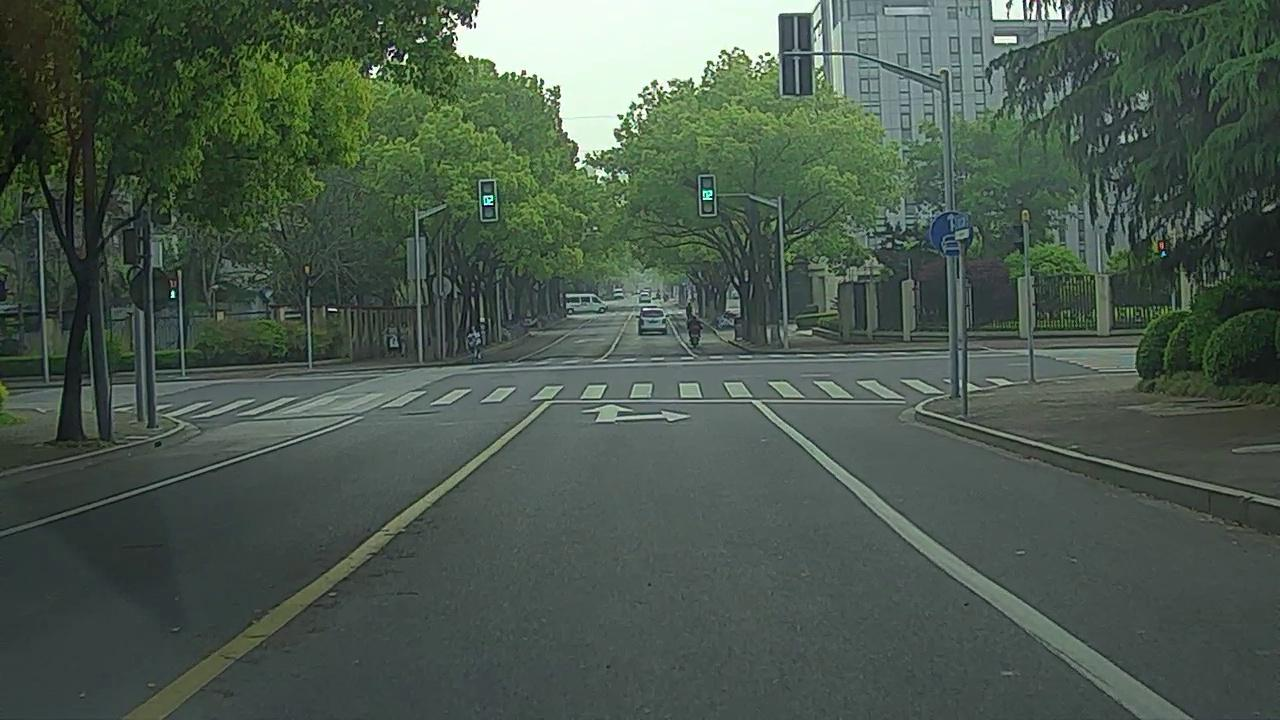traffic_light: (480, 181, 498, 219), (701, 175, 715, 215)
